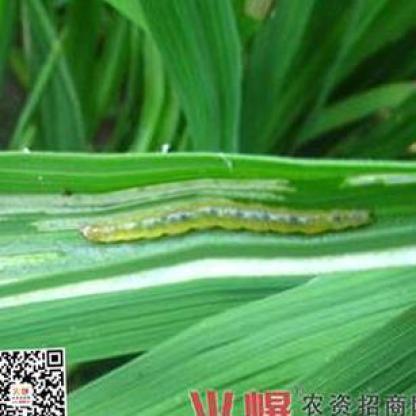leaf-folder: (74, 186, 386, 252)
